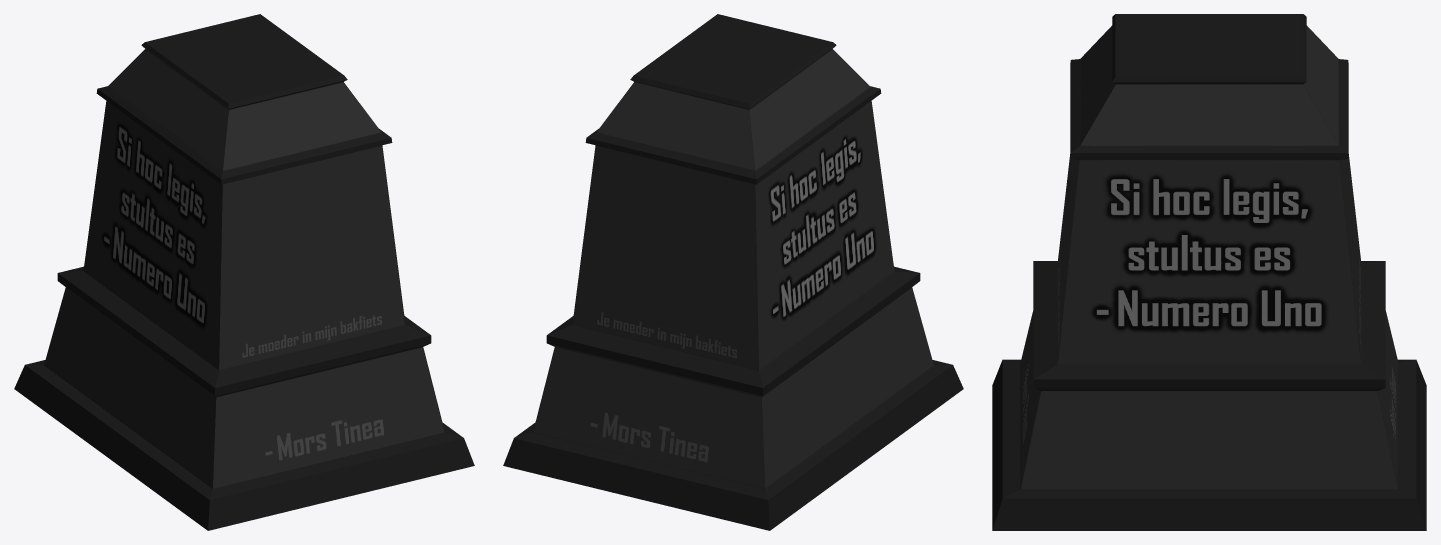
The model's file is Paaseitje.fbx.
3 renders of one model, left to right at view 1: azimuth 30°, elevation 25°; view 2: azimuth 150°, elevation 25°; view 3: azimuth 270°, elevation 25°, orthographic. The views are drawn at different scales.
Visible parts, largest first — view 1: Cube; view 2: Cube; view 3: Cube.
Boxes of the visible parts, x1=… form: Cube: x1=14, y1=14, x2=474, y2=530; Cube: x1=503, y1=14, x2=963, y2=530; Cube: x1=992, y1=14, x2=1426, y2=530.
Bounding box in the file's own units: 205 × 271 × 258.
